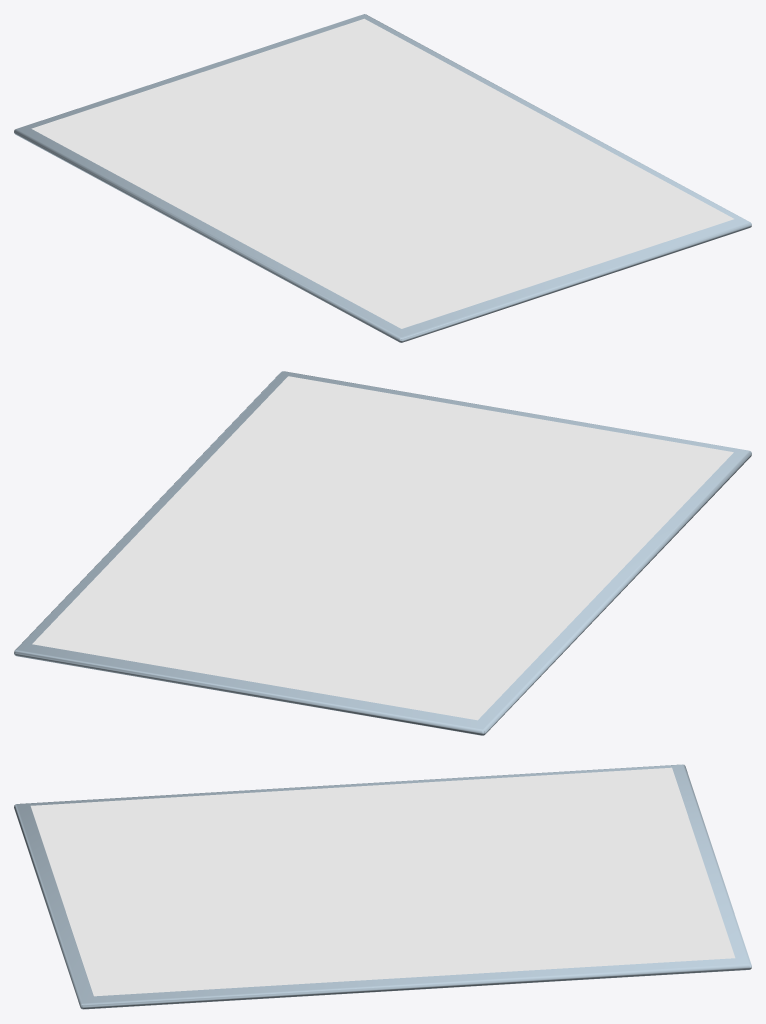
File: Ward_GirlFile.fbx
3 renders of one model, top to bottom at view 1: azimuth 30°, elevation 25°; view 2: azimuth 150°, elevation 25°; view 3: azimuth 270°, elevation 25°, orthographic. The views are drawn at different scales.
Parts seen in each view (by area): view 1: Ward_GirlFile; view 2: Ward_GirlFile; view 3: Ward_GirlFile.
Part boxes in pixels (x1,y1,x2,y2): Ward_GirlFile: (14,14,751,342); Ward_GirlFile: (14,371,751,735); Ward_GirlFile: (14,764,751,1009).
Size of the model in its own units: 0.2606 by 0.004 by 0.3372.
